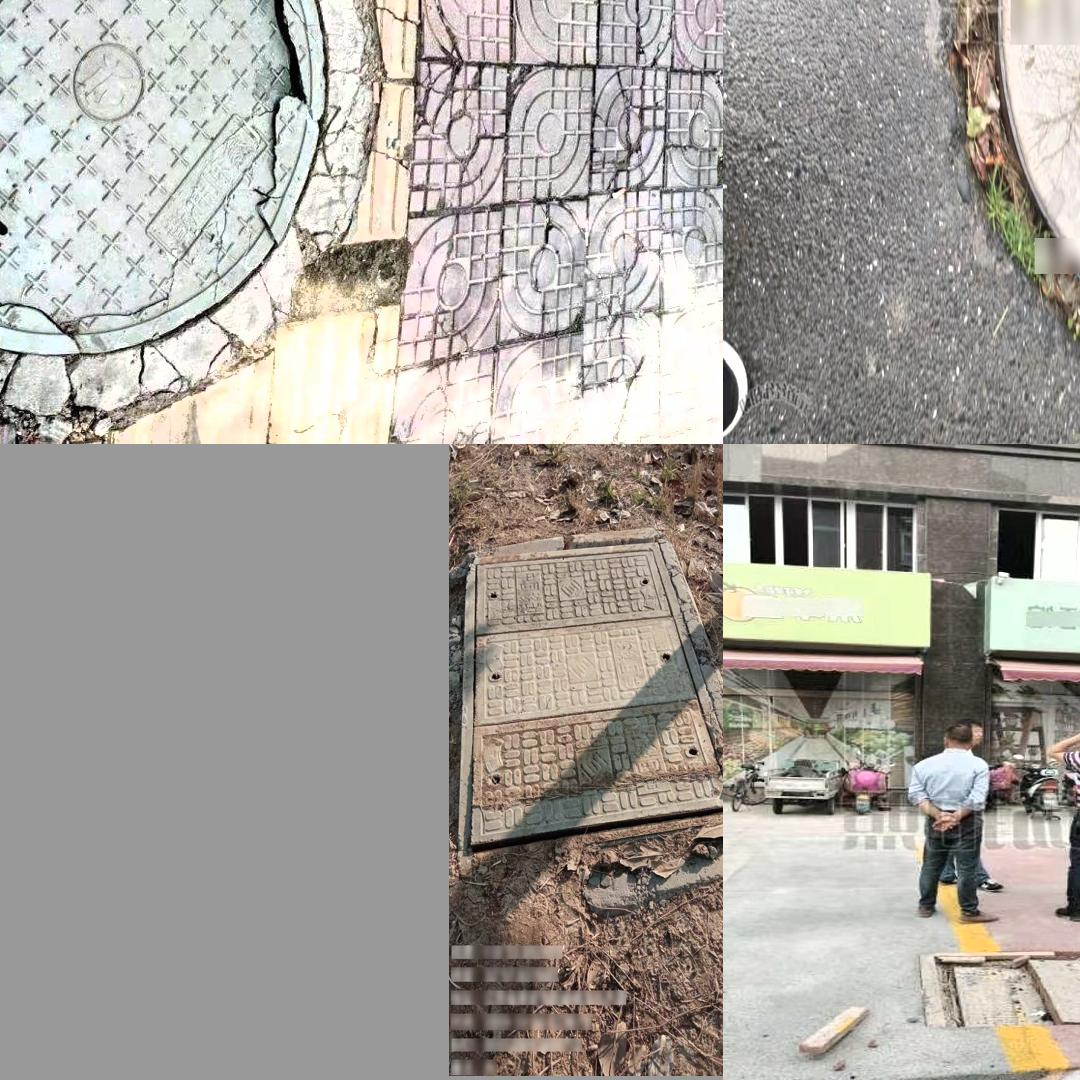circle: (0, 0, 396, 407), (452, 529, 723, 864), (937, 0, 1080, 364), (920, 951, 1080, 1031)
